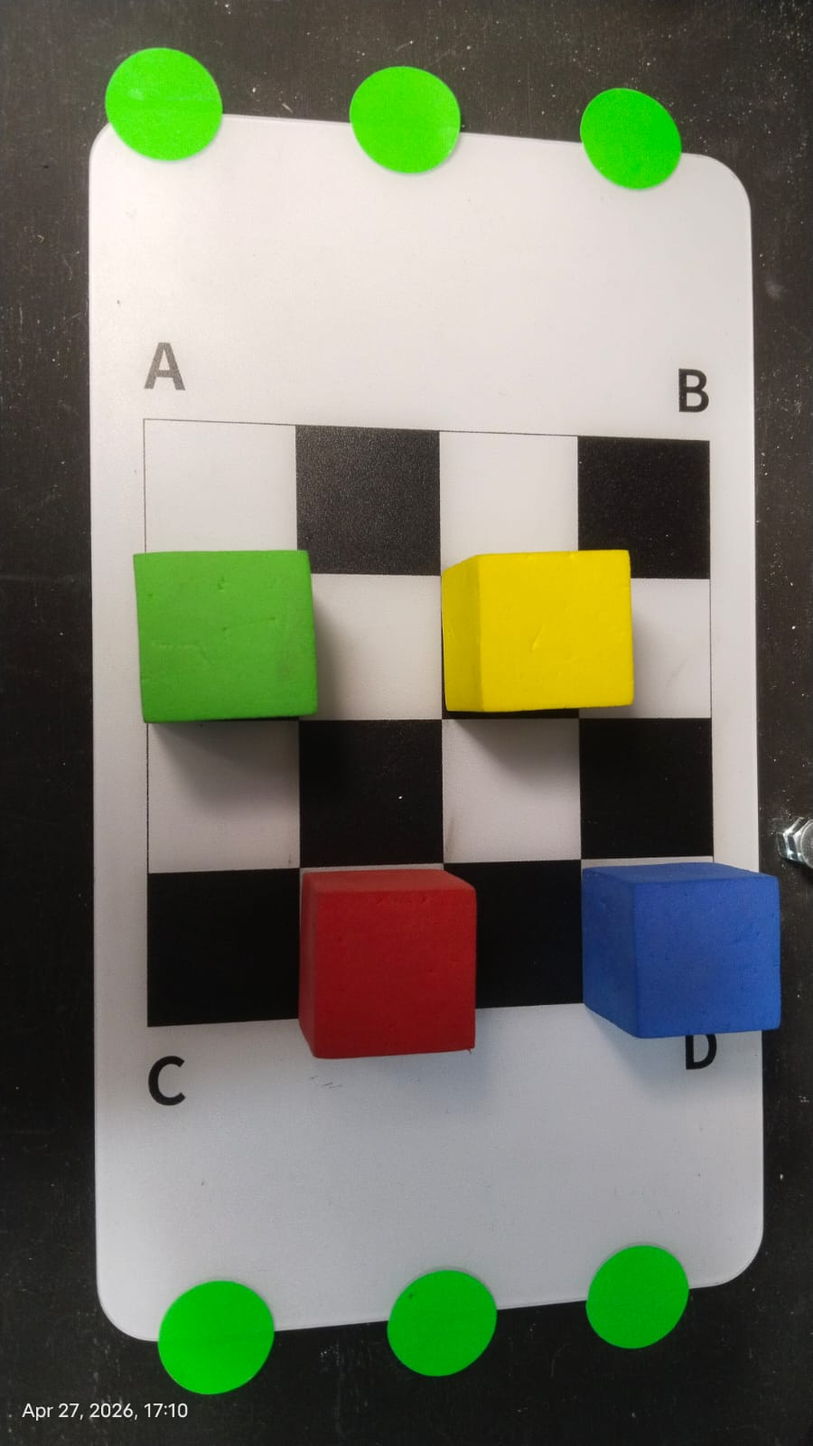blue: (575, 854, 790, 1042)
green: (122, 546, 331, 731)
red: (291, 860, 486, 1062)
yellow: (443, 546, 638, 715)
